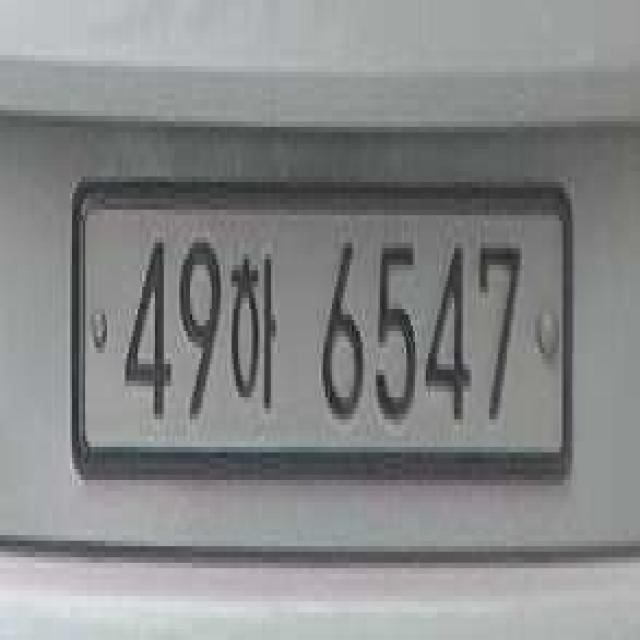4: (422, 236, 476, 444), (124, 230, 174, 427)
5: (375, 232, 418, 428)
6: (317, 220, 369, 423)
7: (477, 233, 527, 446)
9: (178, 231, 222, 427)
ha: (229, 236, 281, 430)
license_plate: (54, 164, 592, 492)
